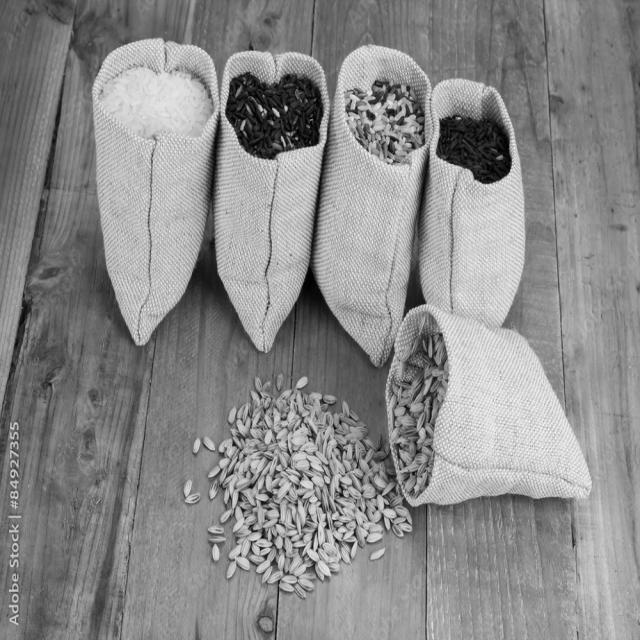sack: (384, 305, 590, 507), (91, 36, 219, 348), (312, 42, 432, 368), (213, 49, 330, 353), (416, 78, 524, 338)
